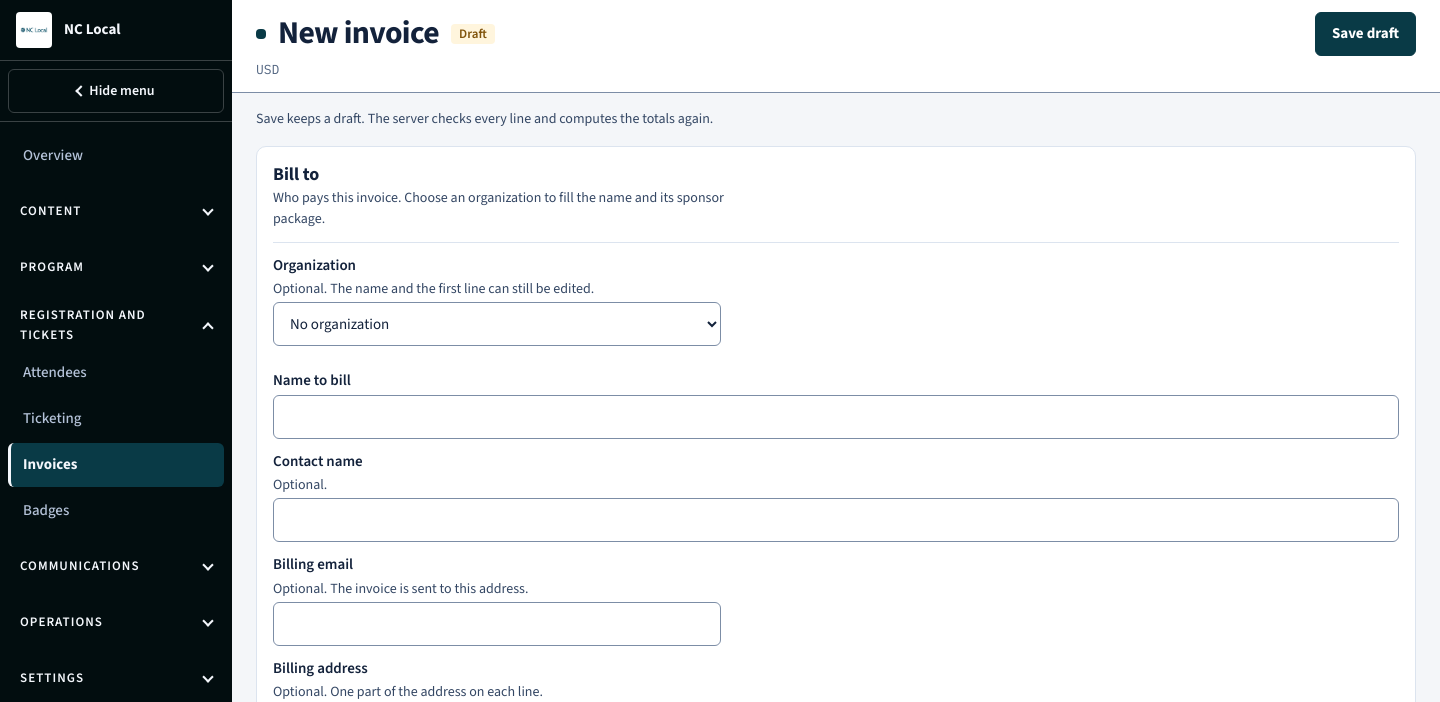
Test case: the invoice editor › recovers a new draft the server already saved when a retry meets a conflict
Expected: the heading "New invoice" is shown, [278, 15, 439, 53]
Type "Example Press" into the field labelled "Name to bill" at (836, 417), box [273, 395, 1399, 439]
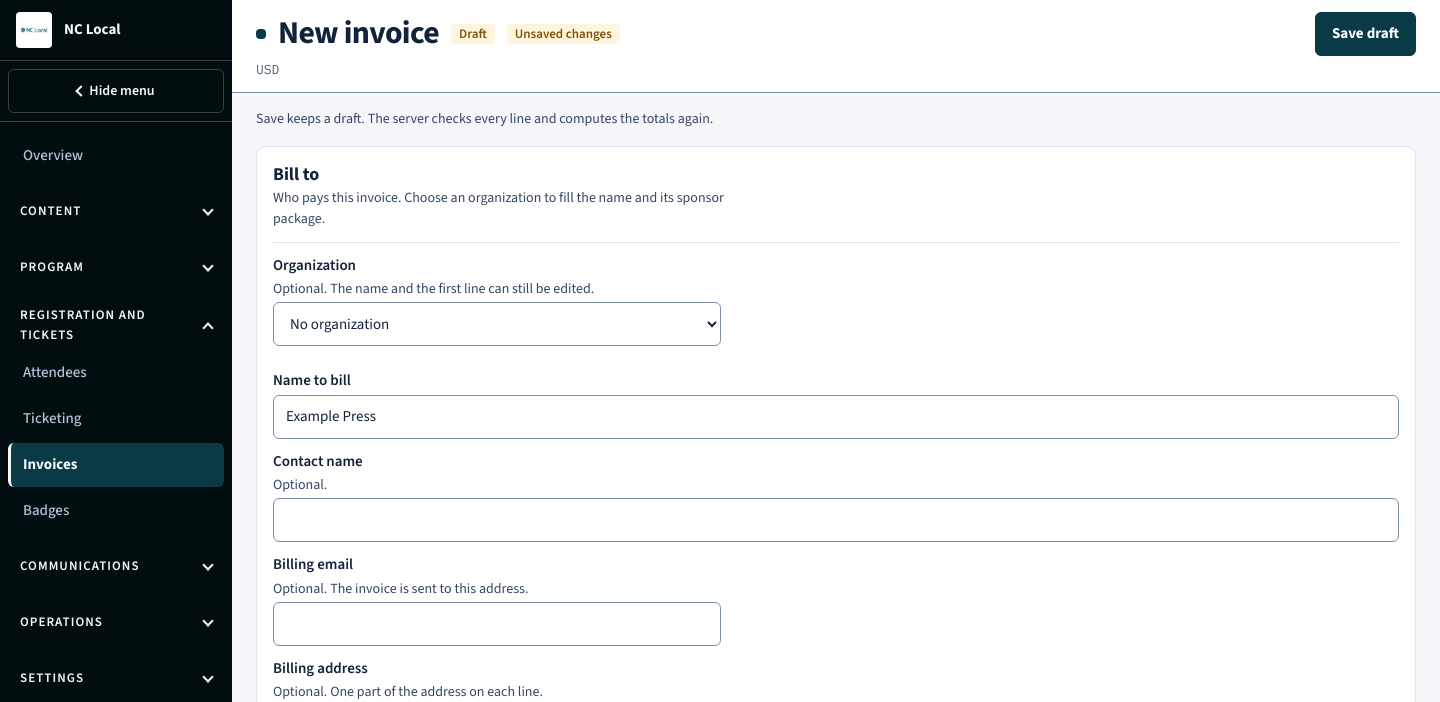
Click the button "Save draft" at (1365, 34), box [1315, 12, 1416, 56]
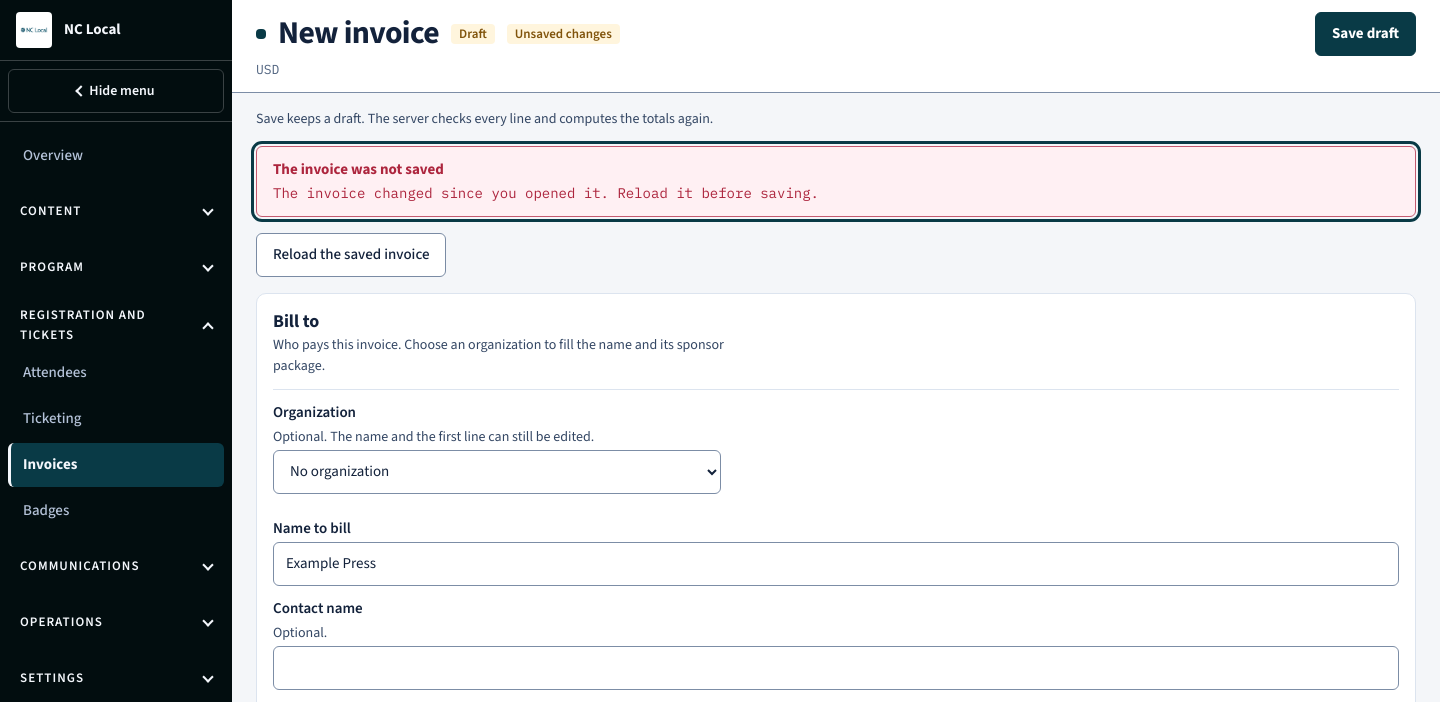
Now the message shows "The invoice changed since you opened it.", box [273, 184, 819, 202]
Click the button "Reload the saved invoice" at (351, 255), box [256, 233, 446, 277]
(page scrolled)
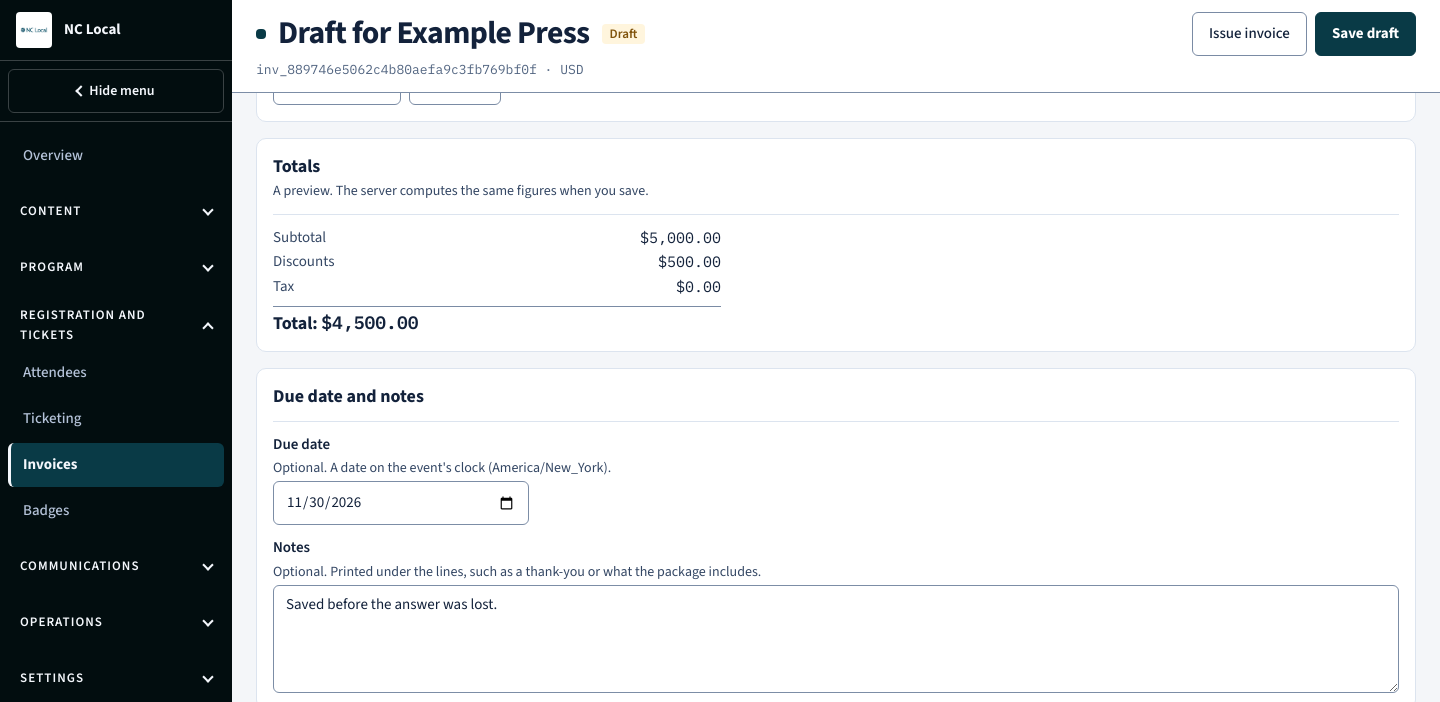
Now the heading "Draft for Example Press" is shown, box [278, 15, 590, 53]
Now the text box labelled "Notes" holds "Saved before the answer was lost.", box [273, 585, 1399, 693]
